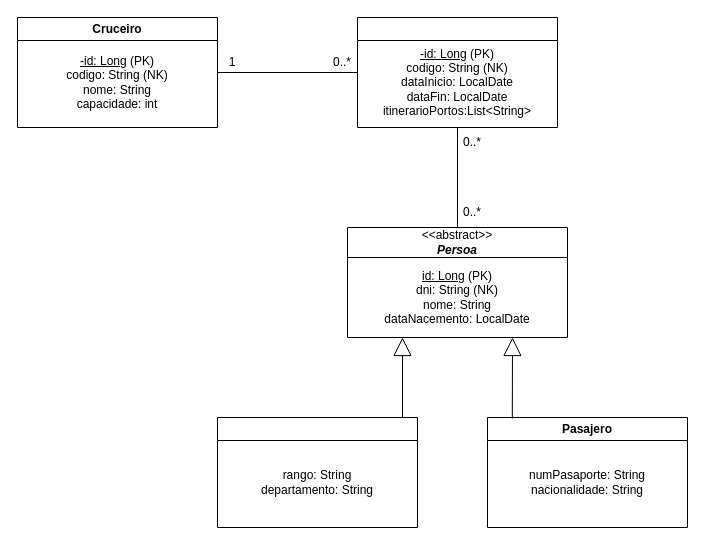
This 705x545 diagram has some shape labels left out. Here are the shapes that lost their labels. From the top down, the box of each, then its label:
(356, 16, 558, 128): Viaxe
(216, 416, 418, 528): Tripulante
